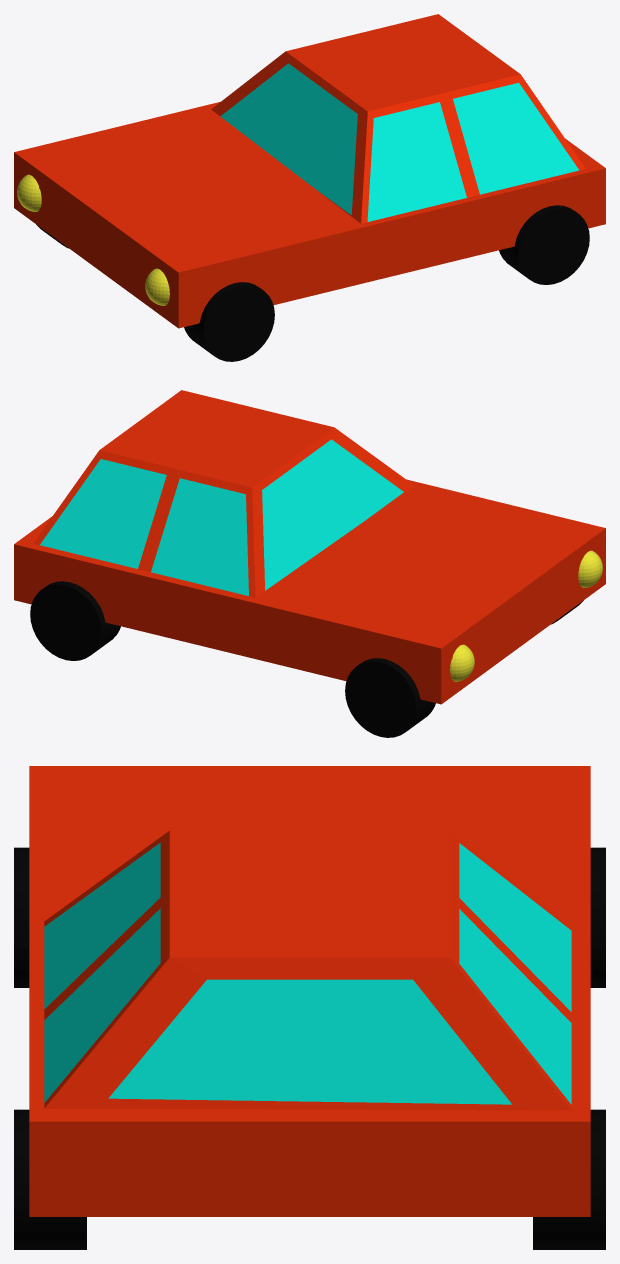
Rendered from Car.fbx.
3 views of the same model, one above another, from view 1: azimuth 30°, elevation 25°; view 2: azimuth 150°, elevation 25°; view 3: azimuth 270°, elevation 25° (orthographic). The views are drawn at different scales.
Parts seen in each view (by area): view 1: Car; view 2: Car; view 3: Car.
Part boxes in pixels (x1,y1,x2,y2): Car: [14, 14, 605, 361]; Car: [14, 390, 605, 737]; Car: [14, 766, 605, 1249].
Size of the model in its own units: 618 by 233 by 422.
